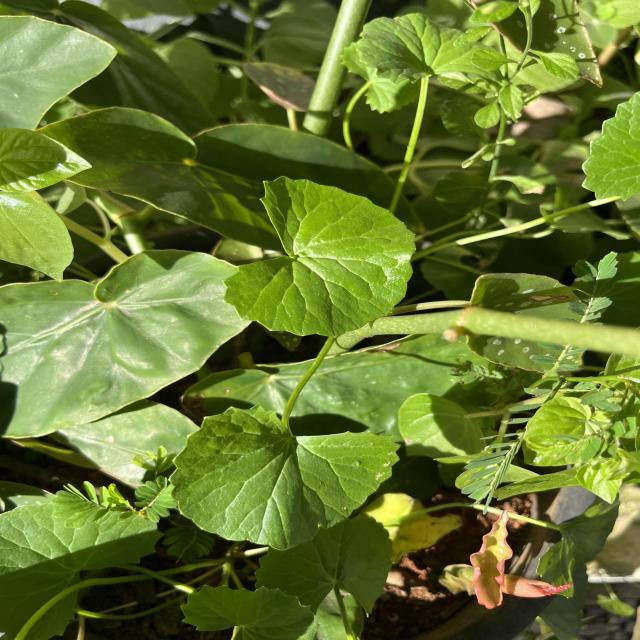Centella asiatica: (167, 400, 404, 552), (221, 173, 419, 340)
